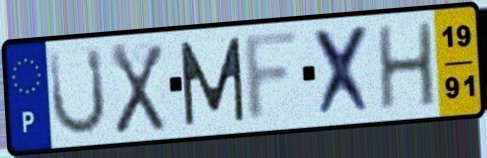F: (241, 27, 304, 128)
H: (374, 18, 439, 113)
M: (177, 34, 249, 129)
U: (46, 44, 109, 139)
X: (311, 21, 378, 120), (108, 41, 167, 138)
